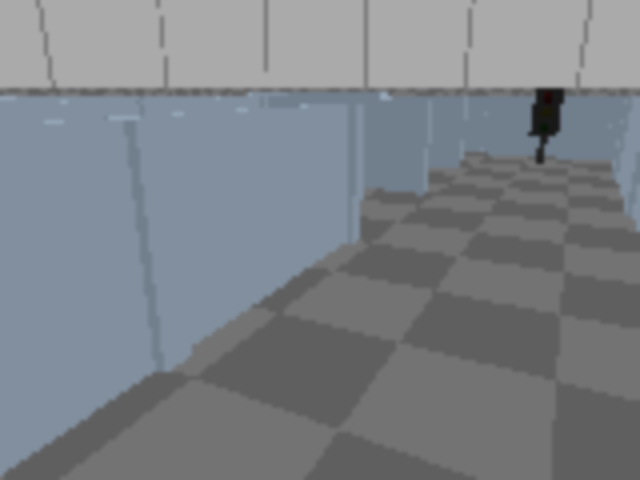traffic_light: (526, 84, 565, 166)
